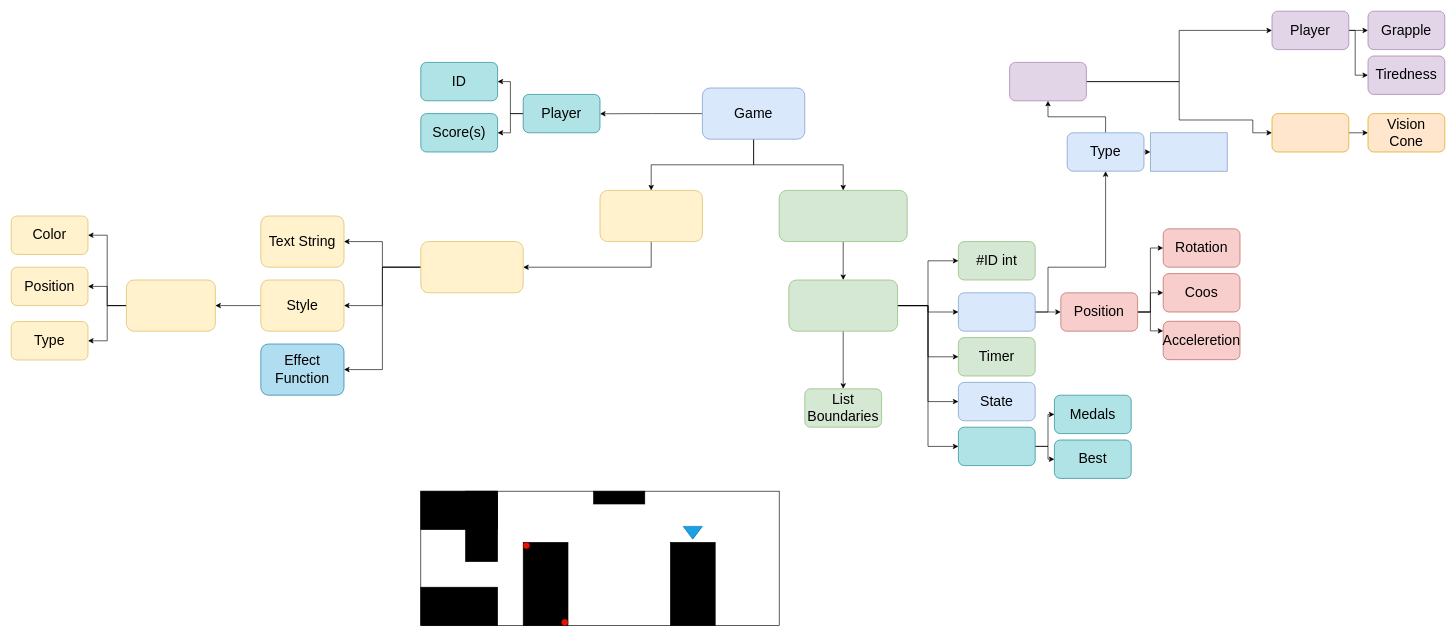
Image size: 1456x637. Some labels were removed from this diagram. Here are the shapes that lost their labels. From the top down, the centre of each, then its label:
the point at 1047,81: Behavior
the point at 1188,151: Player, Guard, NPC?
the point at 1310,132: Guard
the point at 650,216: Menu
the point at 843,216: Levels
the point at 471,267: Options List
the point at 170,305: Parameter List
the point at 843,305: Level List
the point at 996,311: Entity List
the point at 996,446: Score
